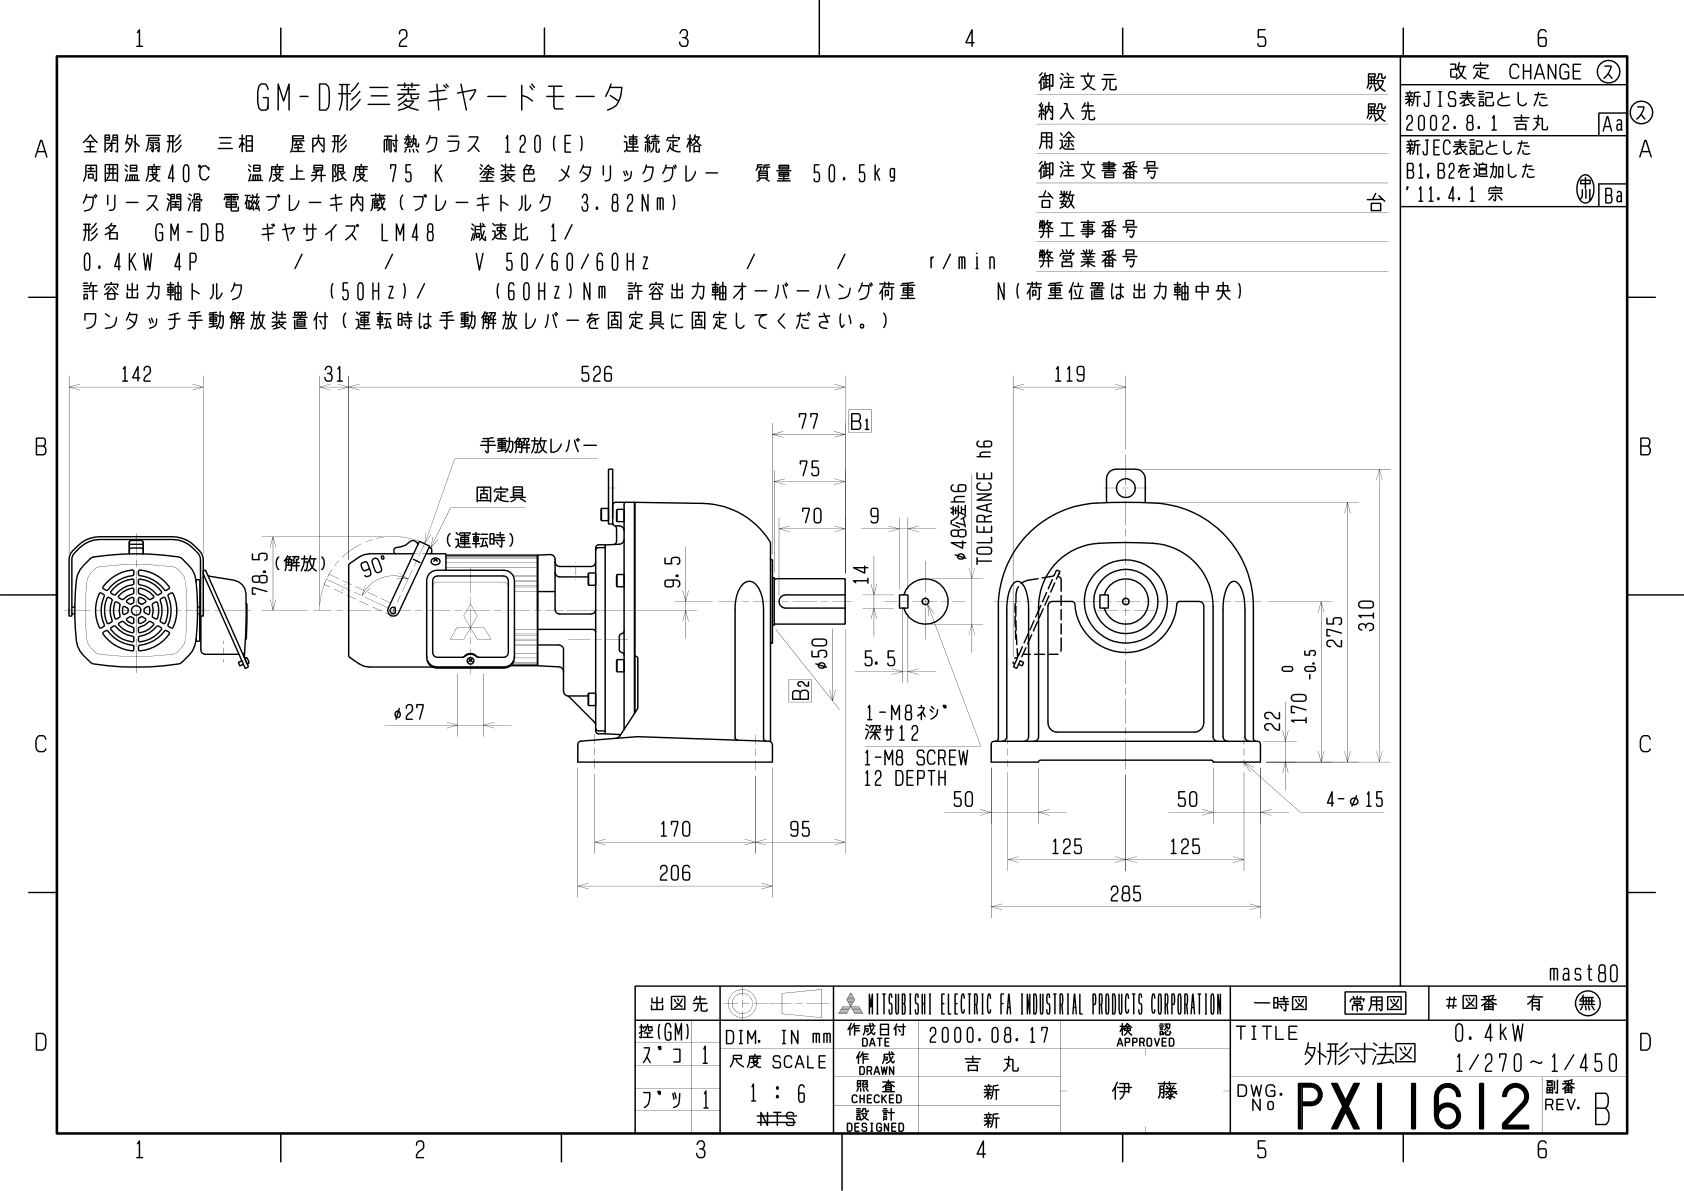GM_D_手動解放ブレーキ＿三相_脚: (58, 343, 1395, 944)
